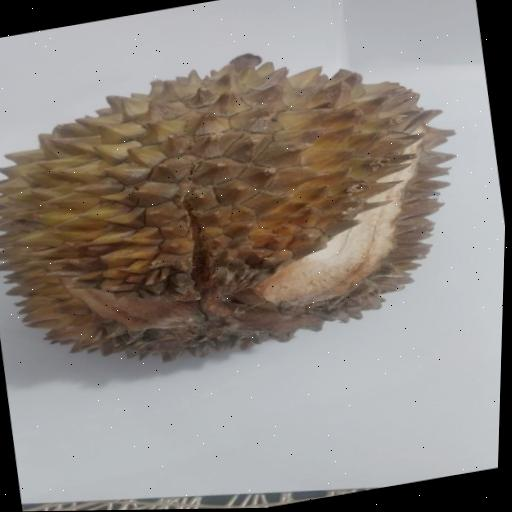rot: (0, 11, 493, 406)
